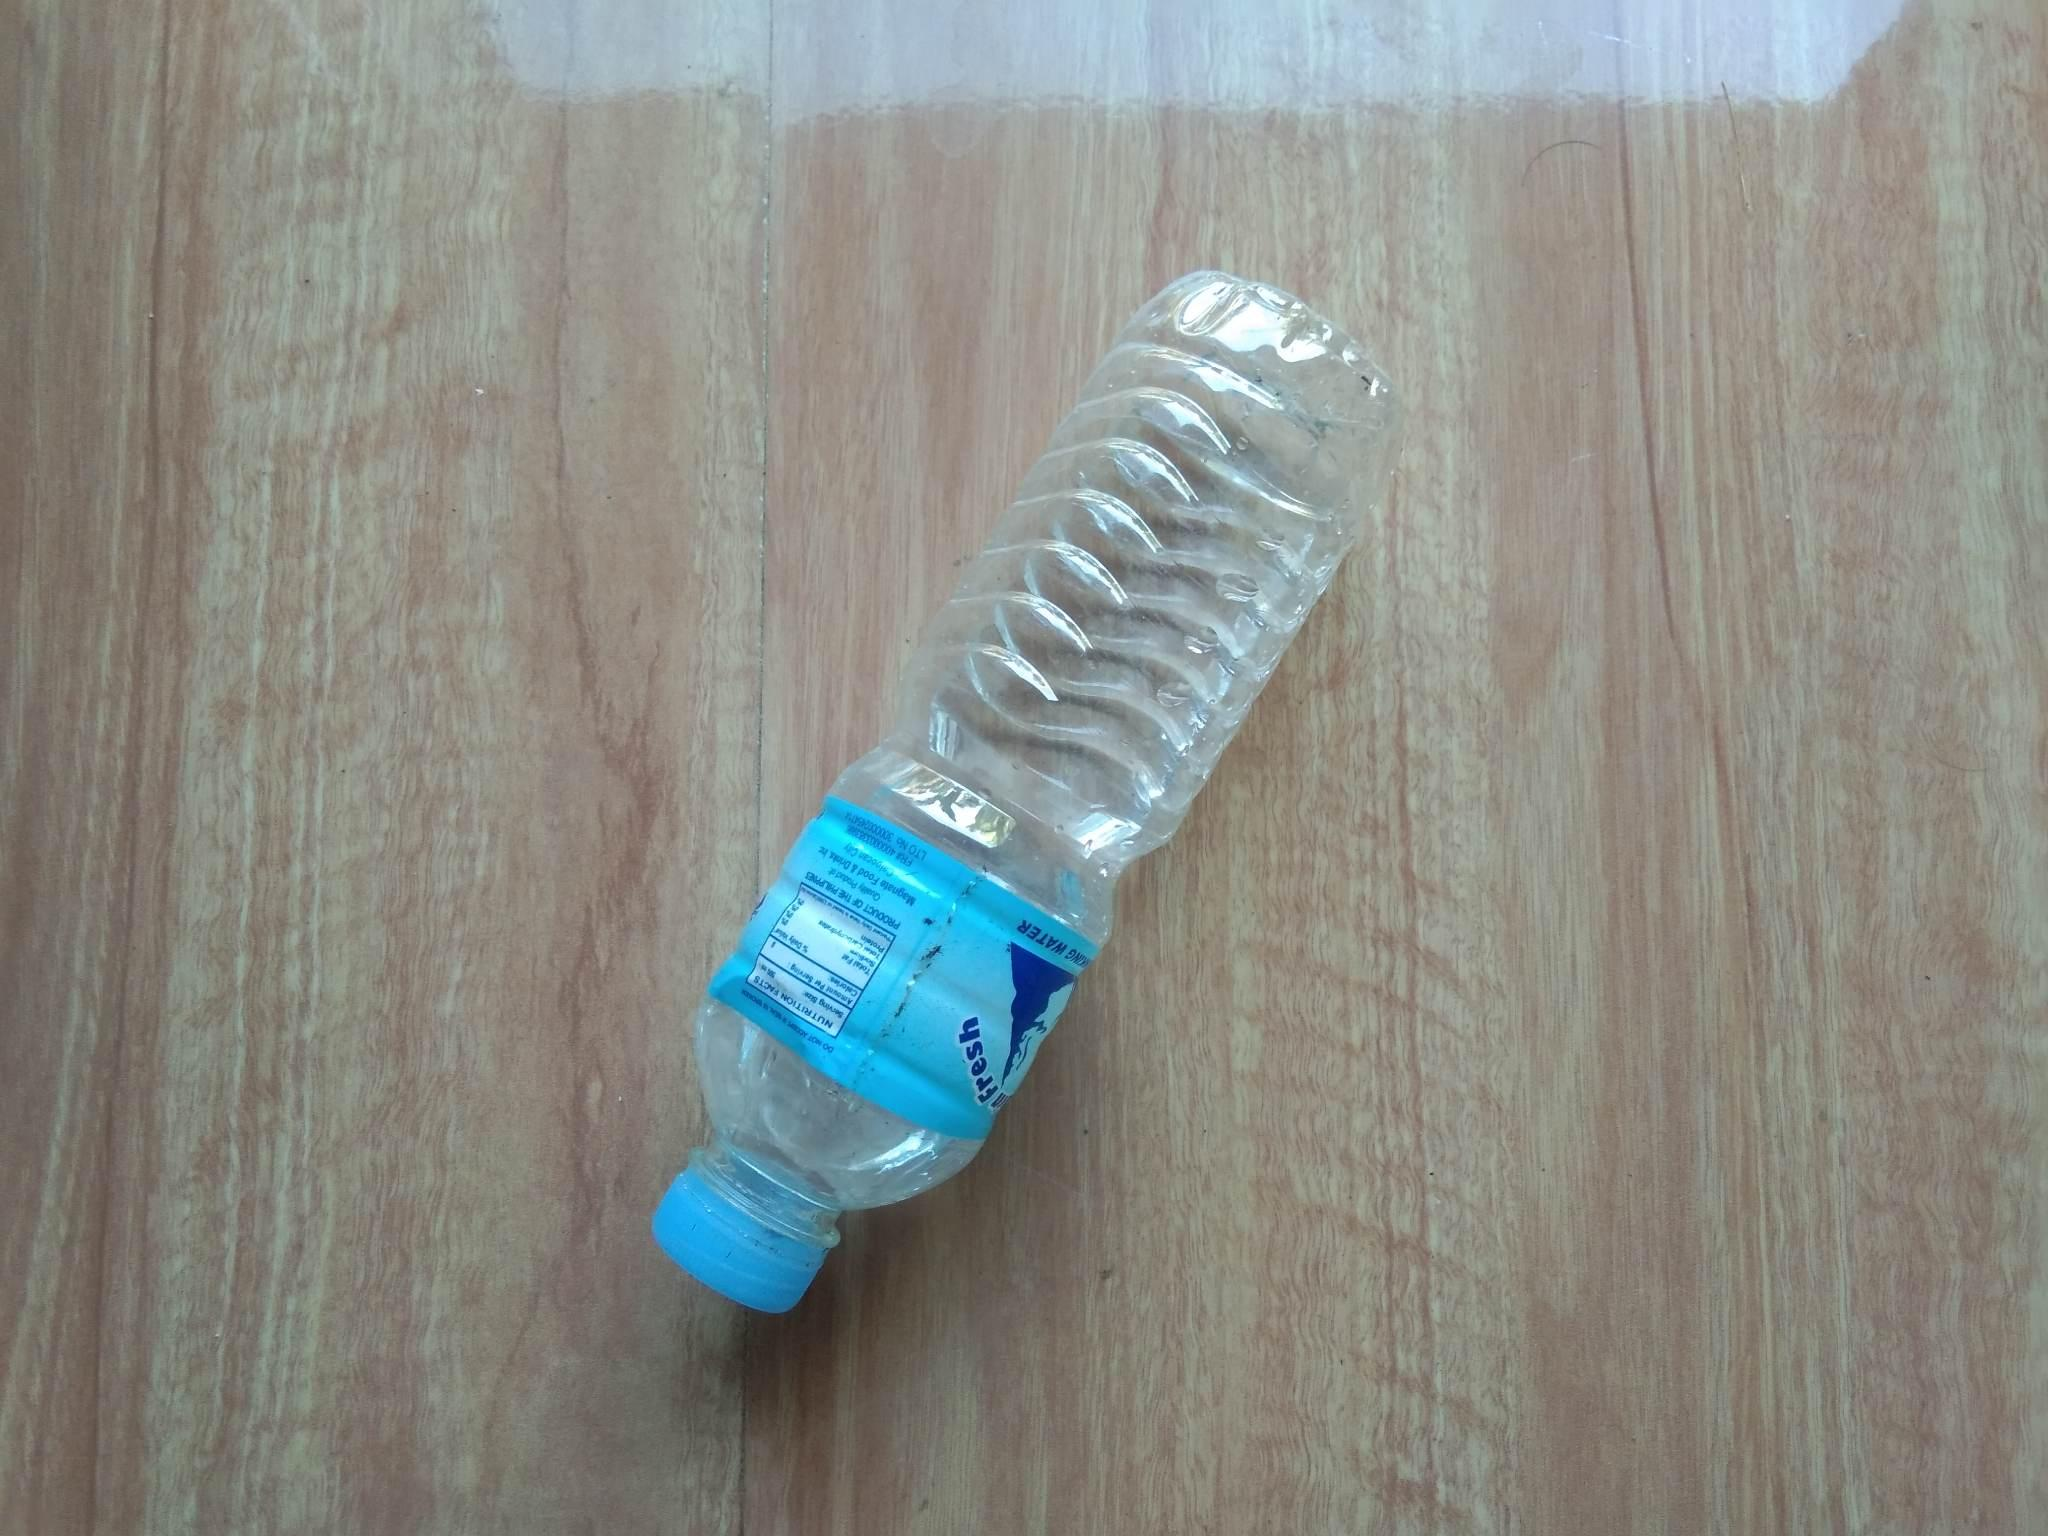plastic: (708, 223, 1413, 1400)
